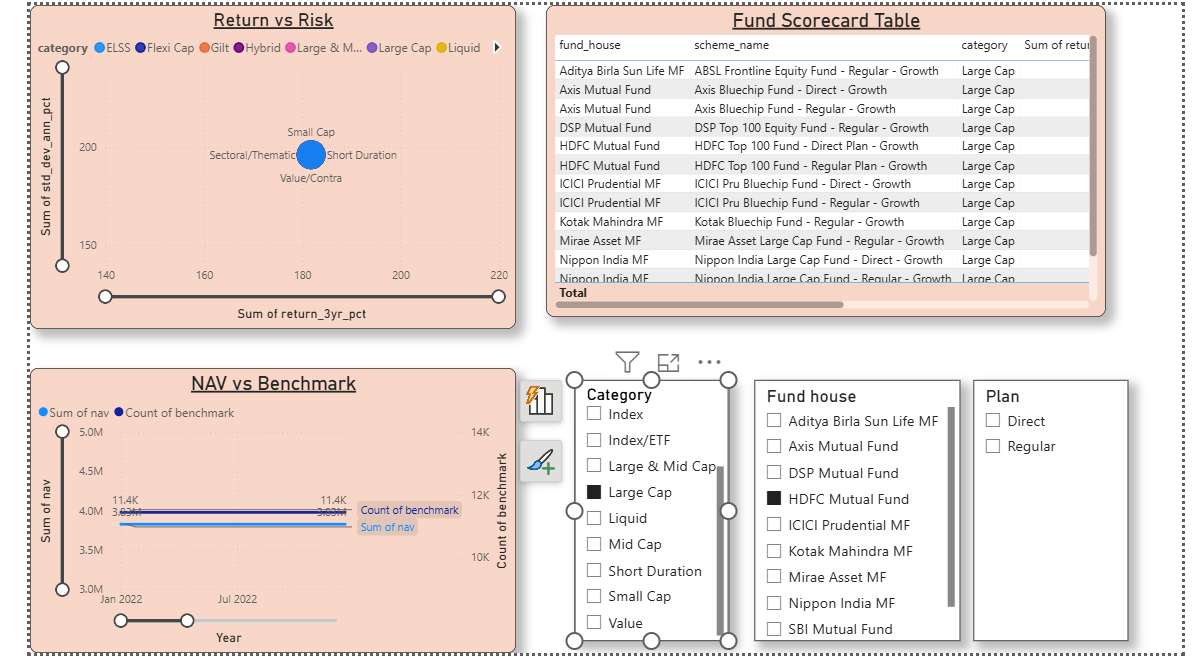

What the dashboard file says about the page in this screenshot:
{"tool":"powerbi","page":{"name":"Fund Performance","canvas":[1280,720],"ordinal":3},"visuals":[{"type":"scatterChart","title":"Return vs Risk","fields":{"Y":["Sum(clean_performance.std_dev_ann_pct)"],"Size":["Sum(aum_by_fund_house.aum_crore)"],"Series":["category_inflows.category"],"X":["Sum(clean_performance.return_3yr_pct)"]},"box":[0,0,540,360],"z":0},{"type":"tableEx","title":"Fund Scorecard Table","fields":{"Values":["clean_performance.fund_house","clean_performance.scheme_name","clean_performance.category","Sum(clean_performance.return_1yr_pct)","Sum(clean_performance.return_3yr_pct)","Sum(clean_performance.alpha)","Sum(clean_performance.sharpe_ratio)","Sum(clean_performance.beta)"]},"box":[573.3,0,621.7,346.7],"z":1},{"type":"lineChart","title":"NAV vs Benchmark","fields":{"Category":["aum_by_fund_house.date.Variation.Date Hierarchy.Year","aum_by_fund_house.date.Variation.Date Hierarchy.Quarter","aum_by_fund_house.date.Variation.Date Hierarchy.Month","aum_by_fund_house.date.Variation.Date Hierarchy.Day"],"Y":["Sum(clean_nav.nav)"],"Y2":["CountNonNull(dashboard_dataset.benchmark)"]},"box":[0,403.3,540,316.7],"z":2},{"type":"slicer","fields":{"Values":["aum_by_fund_house.fund_house"]},"box":[805,416.7,228.3,290],"z":3},{"type":"slicer","fields":{"Values":["clean_performance.category"]},"box":[605,416.7,171.7,290],"z":4},{"type":"slicer","fields":{"Values":["clean_performance.plan"]},"box":[1048.3,416.7,171.7,290],"z":5}]}

Visuals, with their boxes in screenshot pixels (x1, y1, x2, y2), scaled from the page's 1280x720 canvas onto the 1194x658 screenshot:
"Return vs Risk" scatterChart: l=0, t=0, r=504, b=329
"Fund Scorecard Table" tableEx: l=535, t=0, r=1115, b=317
"NAV vs Benchmark" lineChart: l=0, t=369, r=504, b=657
slicer - aum_by_fund_house.fund_house: l=751, t=381, r=964, b=646
slicer - clean_performance.category: l=564, t=381, r=725, b=646
slicer - clean_performance.plan: l=978, t=381, r=1138, b=646
